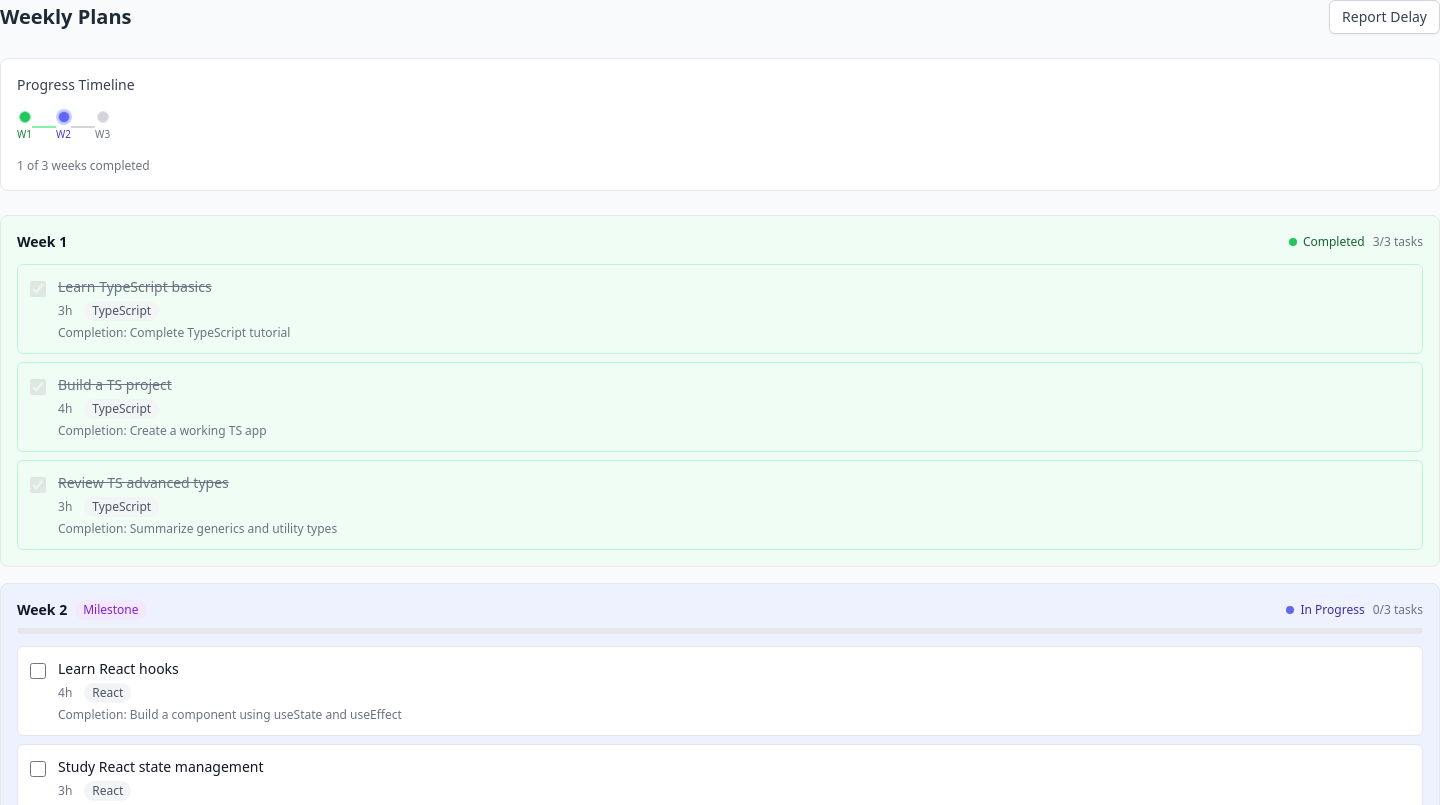
it: WeeklyPlansView › shows delay adjustment prompt when button is clicked
Expected: the heading "Week 2" is shown, [17,600,67,620]
Click the button with aria-label "report a delay" at x=1385, y=17, box [1329,0,1439,34]
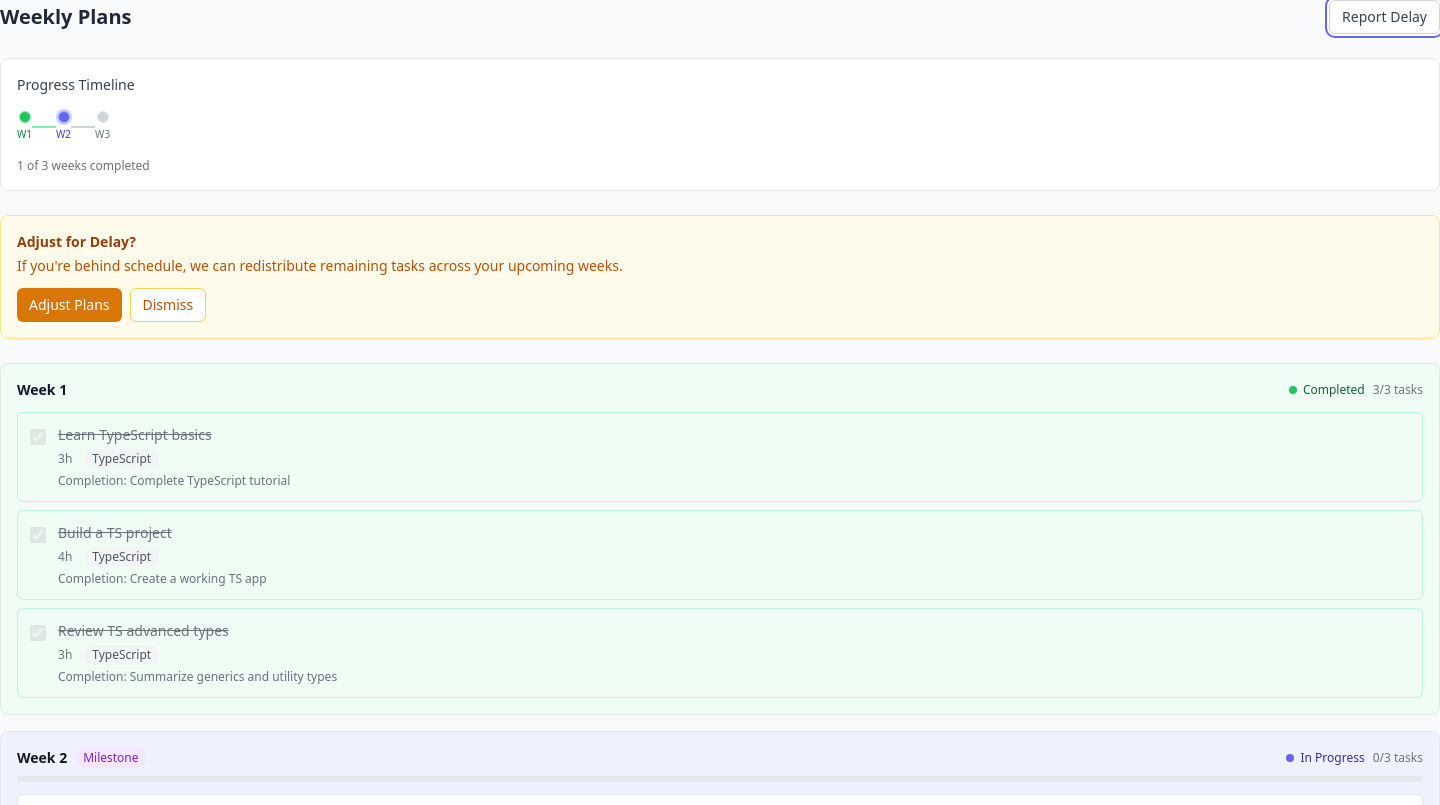
Now the heading "Adjust for Delay?" is shown, box [17,232,136,251]
Now the text "redistribute remaining tasks" is shown, box [17,256,623,275]
